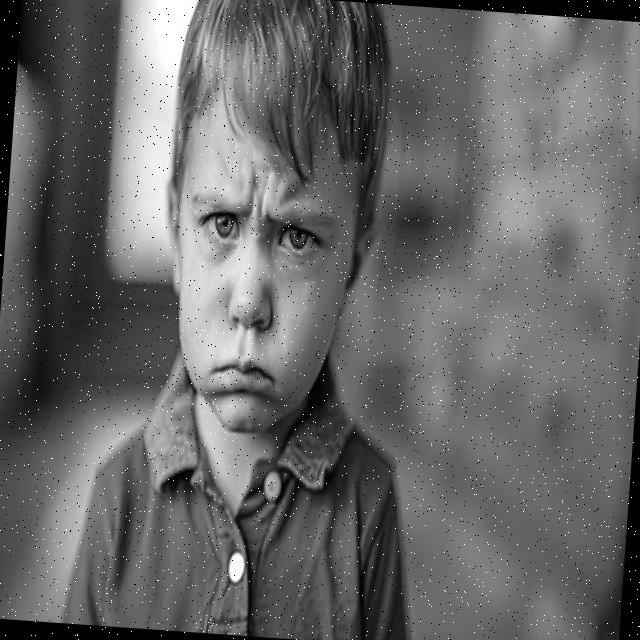Angry: (164, 80, 364, 440)
